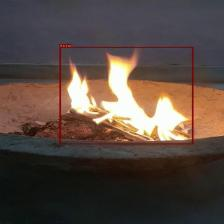fire: (59, 47, 193, 144)
